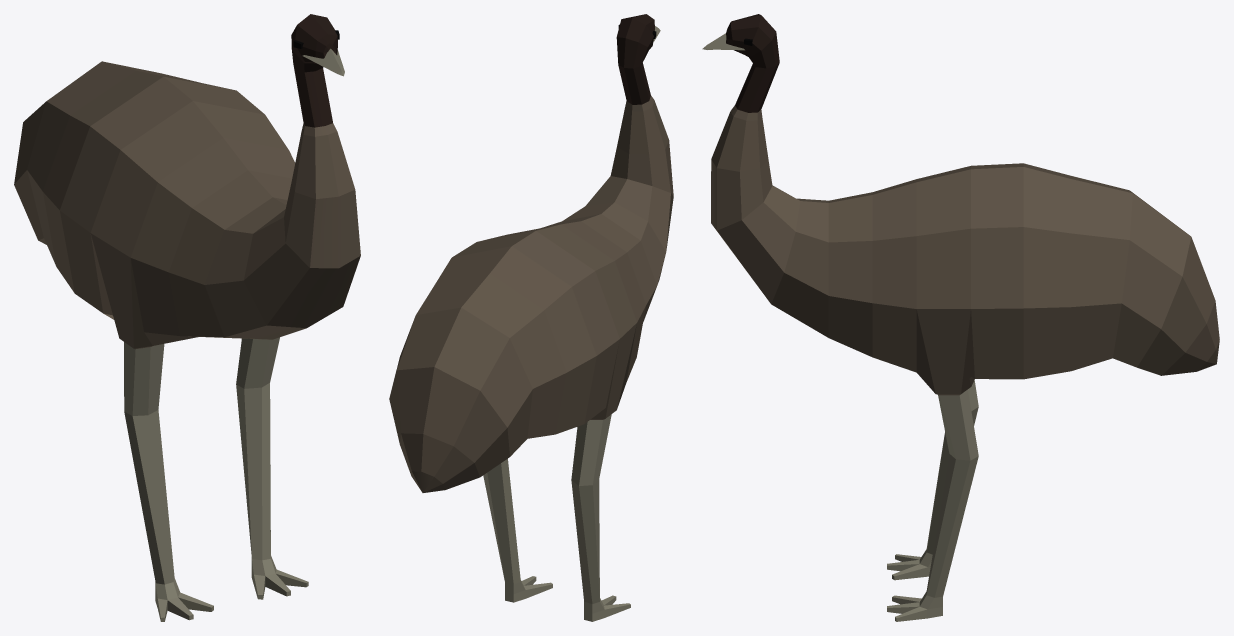
Rendered from emu.glb.
3 renders of one model, left to right at view 1: azimuth 30°, elevation 25°; view 2: azimuth 150°, elevation 25°; view 3: azimuth 270°, elevation 25°, orthographic. The views are drawn at different scales.
Parts seen in each view (by area): view 1: node-0; view 2: node-0; view 3: node-0.
Part boxes in pixels (bbox=[...]): node-0: bbox=[14, 14, 360, 621]; node-0: bbox=[389, 14, 673, 621]; node-0: bbox=[702, 14, 1219, 621].
Bounding box in the file's own units: 59.65 × 178 × 145.
1 material, 1 textured.
